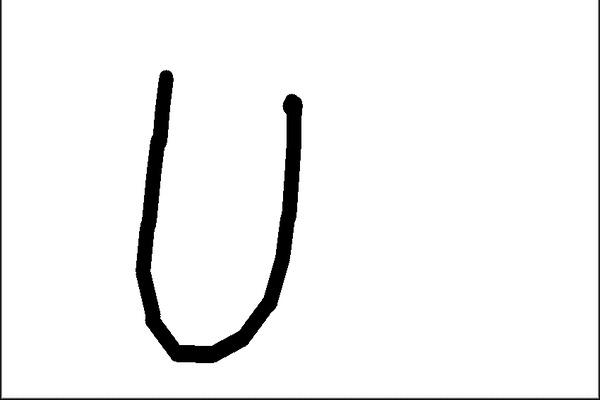U: (114, 58, 294, 367)
